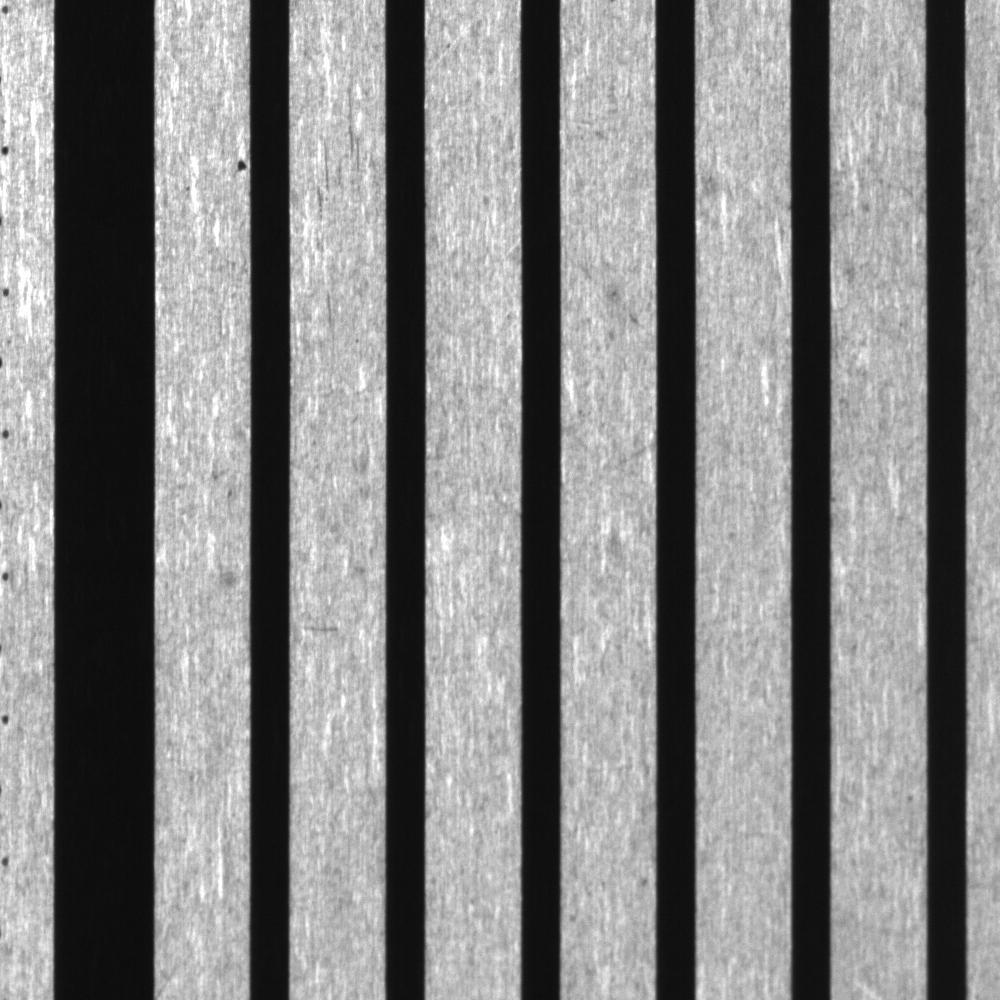Etching: (220, 139, 254, 195)
Scar: (307, 67, 369, 242), (316, 278, 346, 390), (294, 610, 352, 650)
